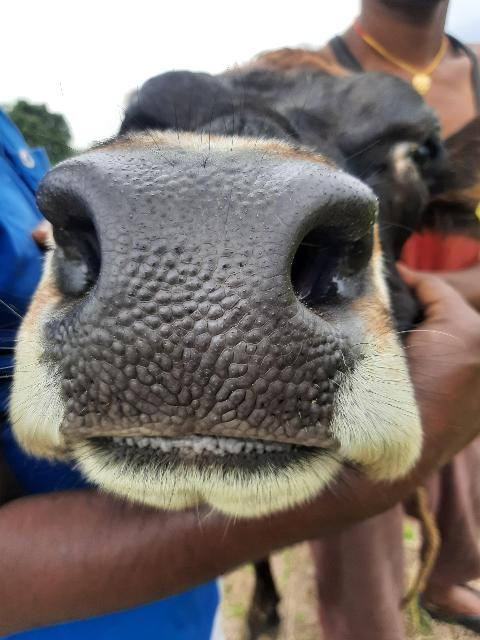Muzzle: (66, 165, 324, 443)
